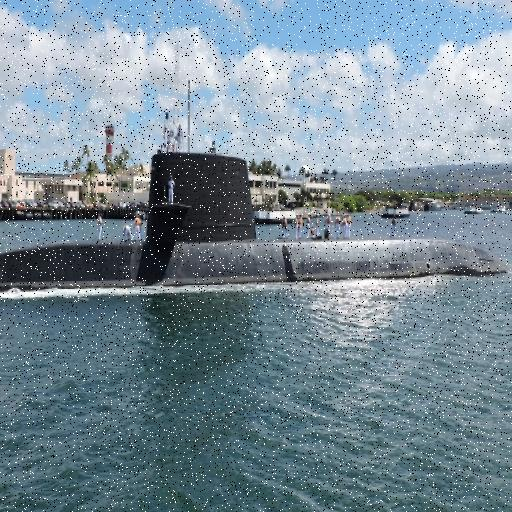submarine: (1, 152, 512, 307)
